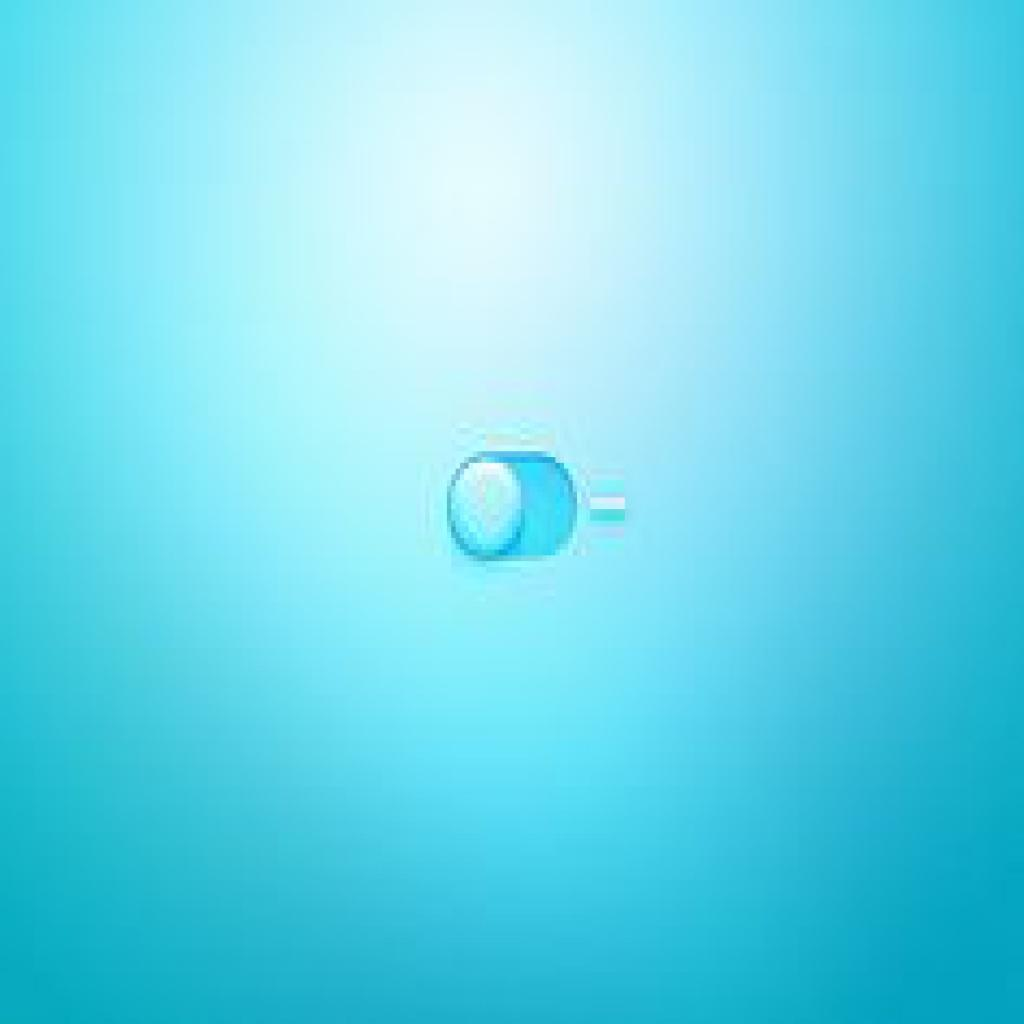switch: (445, 454, 580, 563)
